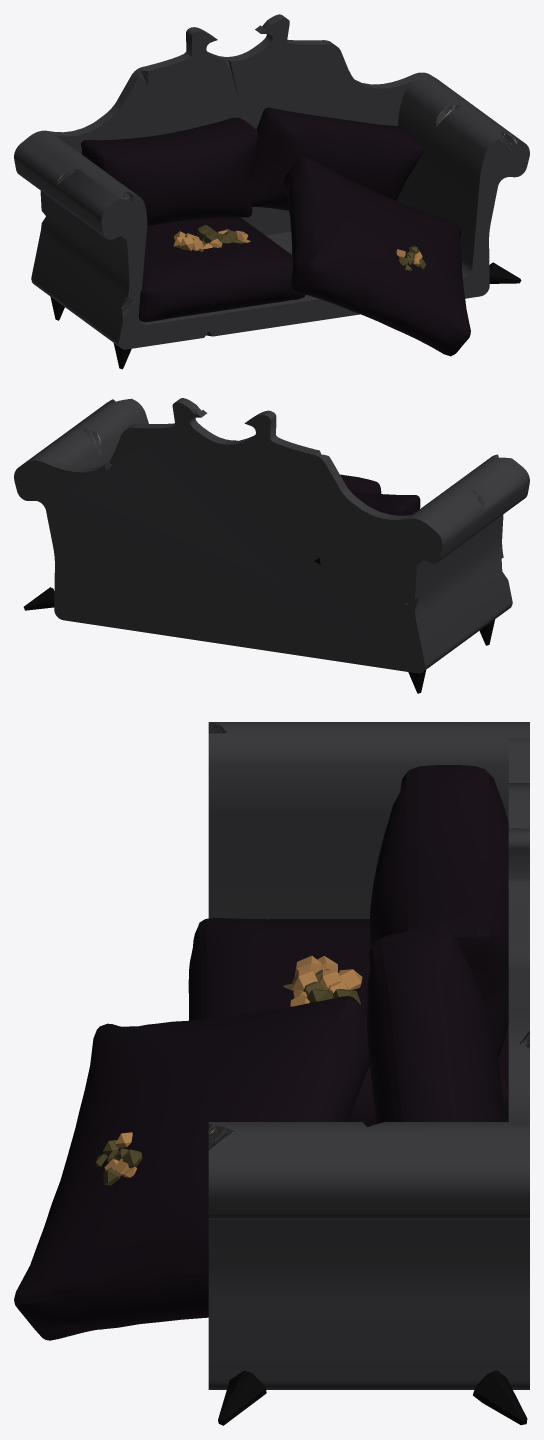
File: SOFA.FBX
3 renders of one model, top to bottom at view 1: azimuth 30°, elevation 25°; view 2: azimuth 150°, elevation 25°; view 3: azimuth 270°, elevation 25°, orthographic. The views are drawn at different scales.
Parts seen in each view (by area): view 1: sofa body, pillow bottom right, pillow top left, pillow bottom left, pillow top left001, Hedra003, Pyramid005, Hedra006; view 2: sofa body, pillow top left, pillow bottom right, Pyramid010; view 3: sofa body, pillow bottom right, pillow top left, pillow top left001, pillow bottom left, Hedra003, Pyramid010, Hedra006, Pyramid005.
Part boxes in pixels (x1=…): sofa body: x1=14, y1=14, x2=529, y2=349; pillow bottom right: x1=284, y1=157, x2=470, y2=356; pillow top left: x1=81, y1=117, x2=258, y2=226; pillow bottom left: x1=138, y1=217, x2=305, y2=322; pillow top left001: x1=251, y1=107, x2=423, y2=210; Hedra003: x1=173, y1=225, x2=250, y2=251; Pyramid005: x1=489, y1=262, x2=521, y2=283; Hedra006: x1=396, y1=246, x2=426, y2=271; sofa body: x1=14, y1=398, x2=529, y2=673; pillow top left: x1=314, y1=491, x2=420, y2=564; pillow bottom right: x1=340, y1=474, x2=381, y2=493; Pyramid010: x1=23, y1=587, x2=54, y2=610; sofa body: x1=208, y1=722, x2=529, y2=1389; pillow bottom right: x1=14, y1=996, x2=369, y2=1340; pillow top left: x1=370, y1=765, x2=508, y2=1056; pillow top left001: x1=366, y1=926, x2=505, y2=1124; pillow bottom left: x1=188, y1=918, x2=508, y2=1127; Hedra003: x1=283, y1=955, x2=362, y2=1006; Pyramid010: x1=473, y1=1370, x2=527, y2=1424; Hedra006: x1=96, y1=1132, x2=142, y2=1185; Pyramid005: x1=218, y1=1370, x2=266, y2=1425.
Size of the model in its own units: 425 by 250 by 241.
